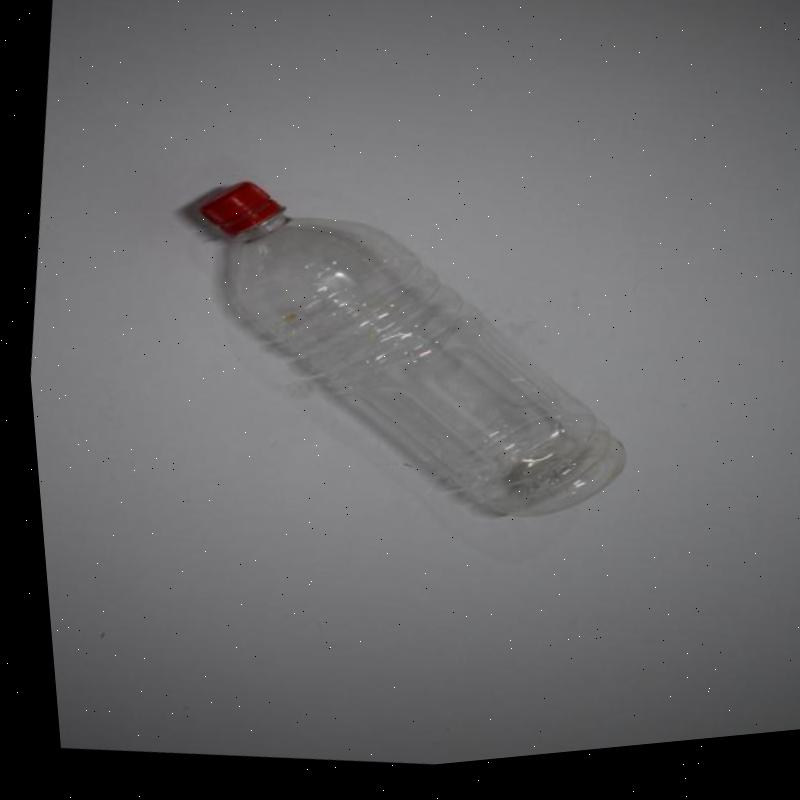botella: (151, 148, 654, 567)
